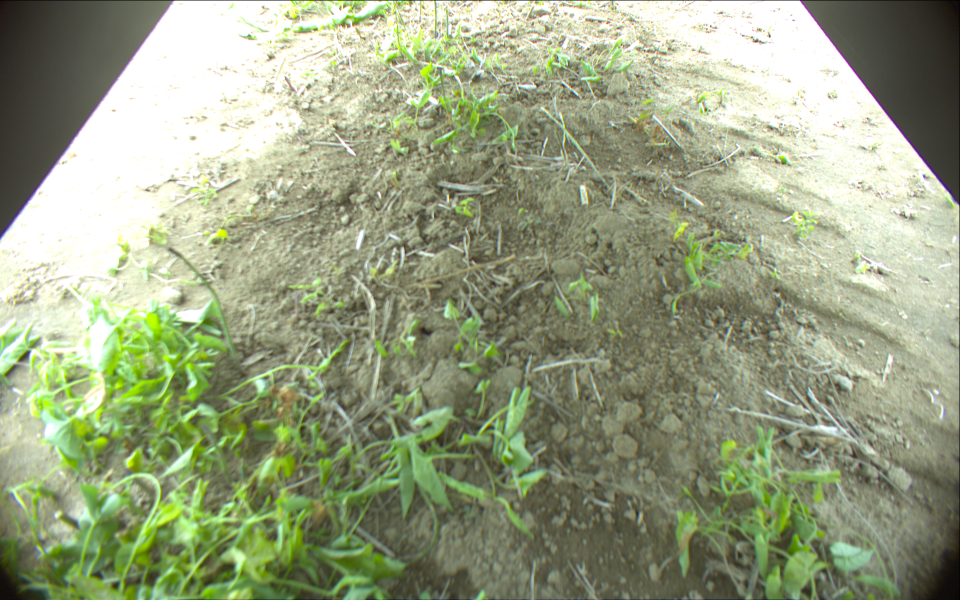aspa: (171, 250, 239, 361), (542, 108, 608, 187), (434, 66, 460, 132), (392, 1, 401, 53), (431, 1, 438, 37), (444, 8, 450, 39)
